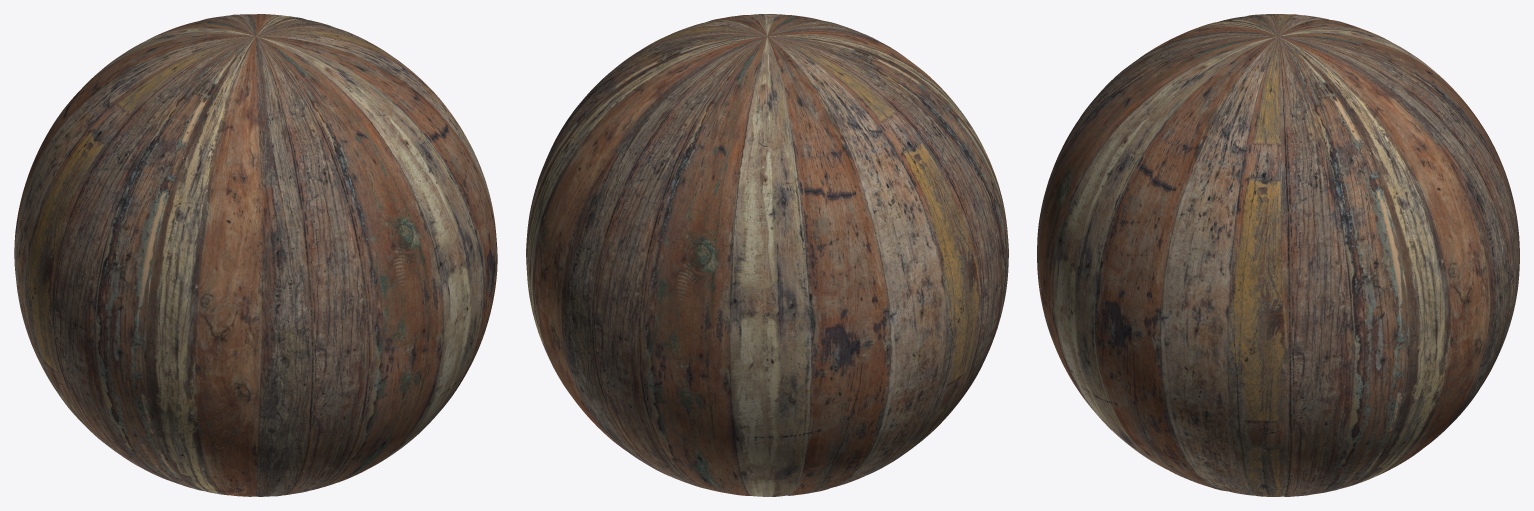
File: worn_planks_1k.gltf
3 renders of one model, left to right at view 1: azimuth 30°, elevation 25°; view 2: azimuth 150°, elevation 25°; view 3: azimuth 270°, elevation 25°, orthographic.
Parts seen in each view (by area): view 1: sphere_gltf; view 2: sphere_gltf; view 3: sphere_gltf.
Part boxes in pixels (<box>): sphere_gltf: <box>14,14,497,496</box>; sphere_gltf: <box>526,14,1008,496</box>; sphere_gltf: <box>1037,14,1519,496</box>.
Size of the model in its own units: 1.41 by 1.41 by 1.41.
Materials: 1 (1 with a texture image).
